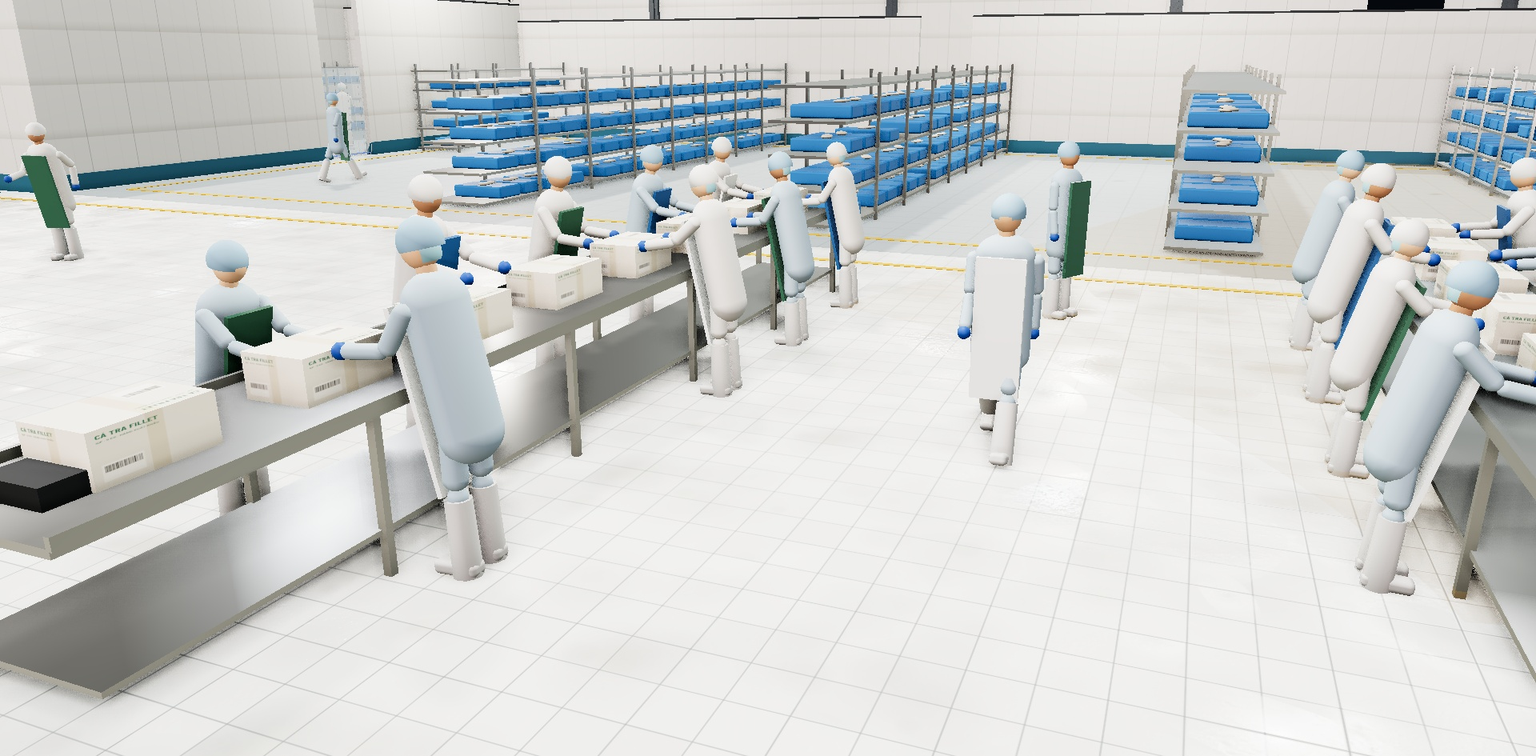apron: (383, 294, 483, 500), (1395, 332, 1496, 529), (198, 302, 294, 470), (399, 233, 473, 383), (1355, 275, 1427, 425), (967, 255, 1029, 405), (1330, 217, 1394, 353), (1474, 204, 1536, 322), (537, 205, 590, 328), (680, 215, 728, 344), (1312, 195, 1363, 308), (18, 154, 73, 231), (634, 187, 675, 290), (761, 194, 798, 302), (1062, 180, 1092, 280), (819, 179, 851, 270), (707, 173, 739, 261), (1523, 229, 1536, 372), (331, 112, 355, 161), (333, 97, 356, 132)
glove: (325, 338, 357, 364), (384, 319, 413, 344), (253, 348, 282, 372), (308, 331, 335, 353), (1464, 315, 1489, 335), (1451, 301, 1475, 321), (455, 269, 479, 289), (955, 320, 973, 345), (493, 258, 516, 277), (1499, 257, 1523, 275), (1485, 247, 1508, 264), (1423, 251, 1444, 269), (1522, 366, 1536, 393), (1413, 242, 1433, 259), (634, 238, 652, 255), (1025, 324, 1041, 342), (659, 230, 676, 246), (580, 236, 597, 251), (1457, 228, 1475, 242), (1447, 221, 1464, 235), (1383, 223, 1400, 237), (606, 229, 623, 243), (1377, 217, 1393, 230), (676, 210, 690, 223), (1047, 231, 1062, 243), (1070, 227, 1085, 239), (0, 174, 17, 184), (728, 216, 741, 229), (694, 205, 708, 217), (745, 211, 758, 223), (744, 192, 756, 203), (758, 187, 770, 198), (69, 182, 83, 191), (791, 197, 802, 208), (804, 193, 815, 203), (339, 131, 350, 138), (331, 137, 341, 143), (350, 105, 357, 109), (332, 112, 339, 115)
hairnet: (377, 207, 457, 260), (1437, 250, 1516, 303), (192, 232, 262, 276), (1385, 212, 1441, 250), (397, 168, 454, 205), (1356, 158, 1406, 191), (680, 159, 724, 191), (987, 190, 1031, 222), (536, 151, 581, 181), (1333, 146, 1373, 173), (1502, 153, 1536, 181), (762, 147, 797, 173), (635, 141, 670, 166), (1051, 139, 1087, 159), (14, 120, 55, 137), (821, 139, 850, 160), (708, 134, 737, 154), (321, 92, 343, 101), (332, 82, 350, 89)
person: (307, 200, 539, 596), (1330, 243, 1536, 625), (140, 226, 357, 552), (1306, 208, 1510, 497), (352, 165, 528, 455), (1286, 155, 1462, 418), (942, 181, 1061, 480), (631, 156, 761, 404), (500, 149, 628, 386), (1275, 144, 1414, 361), (1424, 151, 1536, 376), (1456, 164, 1536, 439), (604, 139, 710, 339), (727, 145, 827, 351), (0, 119, 101, 269), (790, 137, 876, 312), (682, 132, 770, 303), (1032, 139, 1097, 323), (1509, 183, 1536, 532), (303, 91, 370, 185), (325, 81, 369, 148)
